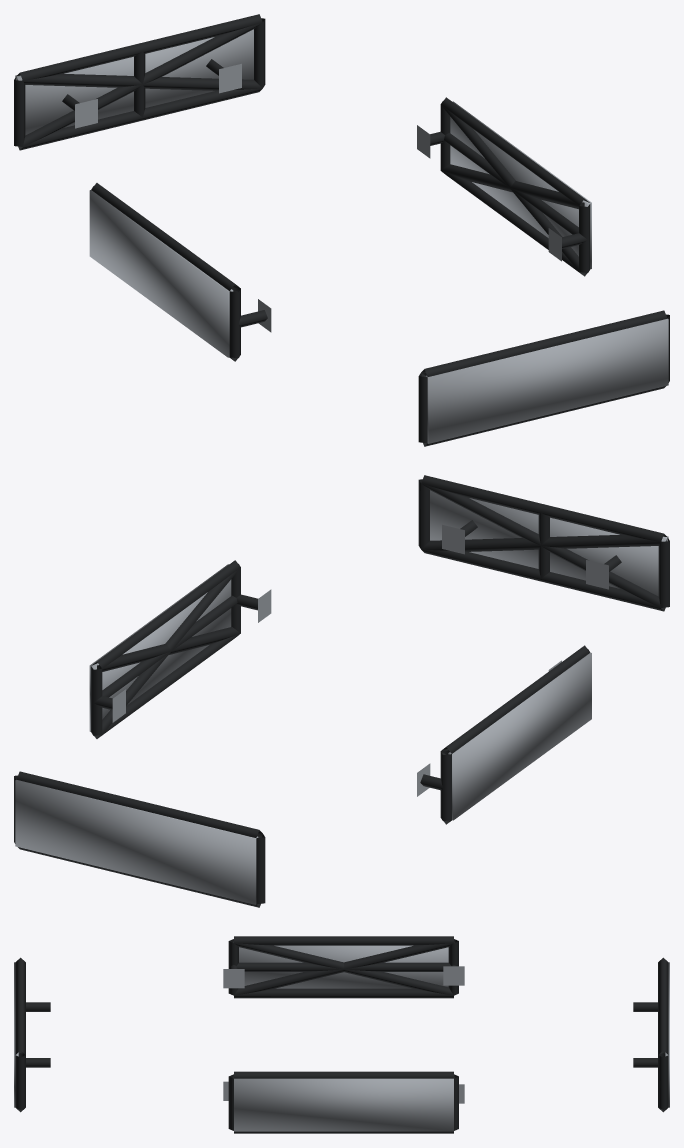
The model's file is mizuchi_teca_protecao.glb.
The picture shows the model from 3 angles, top to bottom: view 1: azimuth 30°, elevation 25°; view 2: azimuth 150°, elevation 25°; view 3: azimuth 270°, elevation 25°; orthographic projection. The views are drawn at different scales.
Visible parts, largest first — view 1: Protection_front_Level3_Details, Protection_left_Level3_Details, Protection_rear_Level1_Details, Protection_rear_Level3_Details, Protection_right_Level1_Details, Protection_rear_Level2_Details, Protection_right_Level2_Details, Protection_front_Level1_Details, Protection_right_Level3_Details, Protection_left_Level1_Details; view 2: Protection_rear_Level3_Details, Protection_left_Level3_Details, Protection_front_Level1_Details, Protection_front_Level3_Details, Protection_right_Level1_Details, Protection_front_Level2_Details, Protection_right_Level2_Details, Protection_rear_Level1_Details, Protection_right_Level3_Details, Protection_left_Level1_Details; view 3: Protection_right_Level3_Details, Protection_left_Level1_Details, Protection_left_Level2_Details, Protection_left_Level3_Details, Protection_right_Level1_Details, Protection_rear_Level1_Details, Protection_front_Level1_Details.
Boxes of the visible parts, <box> form: Protection_front_Level3_Details: <box>425,318,668,443</box>; Protection_left_Level3_Details: <box>89,190,233,357</box>; Protection_rear_Level1_Details: <box>14,14,265,150</box>; Protection_rear_Level3_Details: <box>15,29,253,135</box>; Protection_right_Level1_Details: <box>417,97,590,276</box>; Protection_rear_Level2_Details: <box>16,23,262,148</box>; Protection_right_Level2_Details: <box>441,105,589,275</box>; Protection_front_Level1_Details: <box>418,310,669,446</box>; Protection_right_Level3_Details: <box>450,101,591,269</box>; Protection_left_Level1_Details: <box>91,183,271,361</box>; Protection_rear_Level3_Details: <box>15,779,258,904</box>; Protection_left_Level3_Details: <box>448,652,591,820</box>; Protection_front_Level1_Details: <box>418,475,669,611</box>; Protection_front_Level3_Details: <box>430,490,668,596</box>; Protection_right_Level1_Details: <box>91,560,271,738</box>; Protection_front_Level2_Details: <box>421,484,667,609</box>; Protection_right_Level2_Details: <box>91,568,240,738</box>; Protection_rear_Level1_Details: <box>14,771,265,907</box>; Protection_right_Level3_Details: <box>89,564,231,731</box>; Protection_left_Level1_Details: <box>417,645,590,824</box>; Protection_right_Level3_Details: <box>234,1078,453,1131</box>; Protection_left_Level1_Details: <box>223,936,464,998</box>; Protection_left_Level2_Details: <box>233,939,454,995</box>; Protection_left_Level3_Details: <box>239,945,448,988</box>; Protection_right_Level1_Details: <box>223,1071,464,1133</box>; Protection_rear_Level1_Details: <box>633,957,668,1112</box>; Protection_front_Level1_Details: <box>15,957,50,1112</box>.
Size of the model in its own units: 1.73 by 0.354 by 3.4.
Materials: 1 (1 with a texture image).
